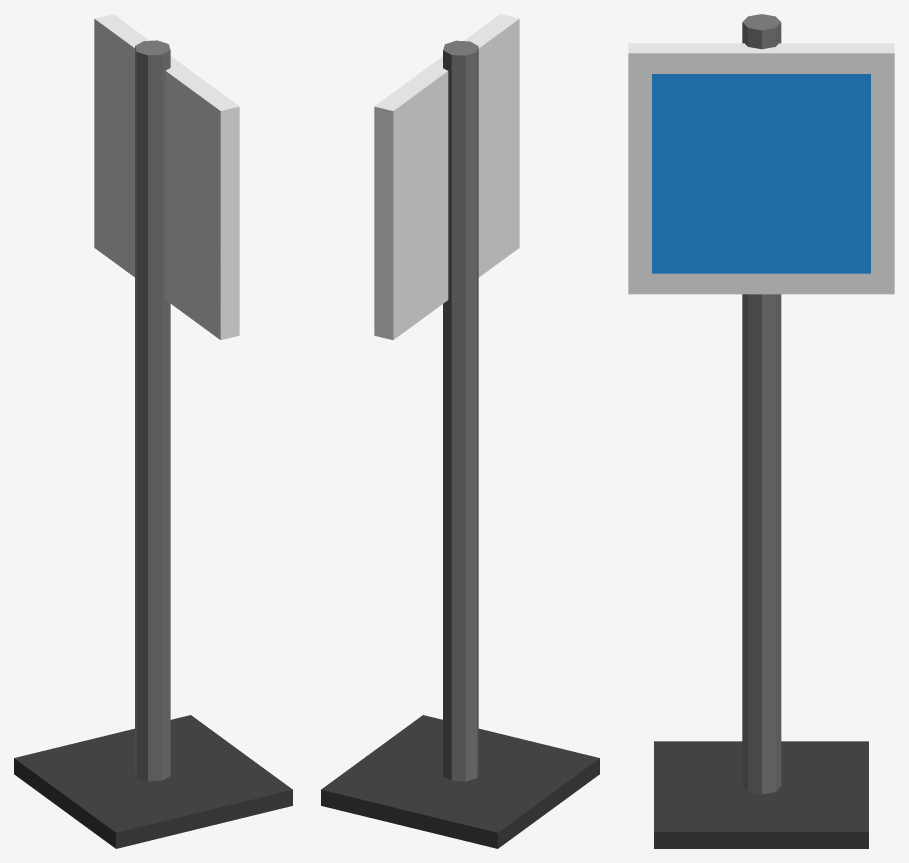
File: traffic_Sign_05.fbx
3 views of the same model, side by side, from view 1: azimuth 30°, elevation 25°; view 2: azimuth 150°, elevation 25°; view 3: azimuth 270°, elevation 25° (orthographic). The views are drawn at different scales.
Visible parts, largest first — view 1: traffic_Sign_05; view 2: traffic_Sign_05; view 3: traffic_Sign_05.
Part boxes in pixels (x1,y1,x2,y2): traffic_Sign_05: (14, 14, 292, 848); traffic_Sign_05: (321, 14, 599, 848); traffic_Sign_05: (628, 14, 894, 848).
Size of the model in its own units: 60.75 by 244 by 75.21.
